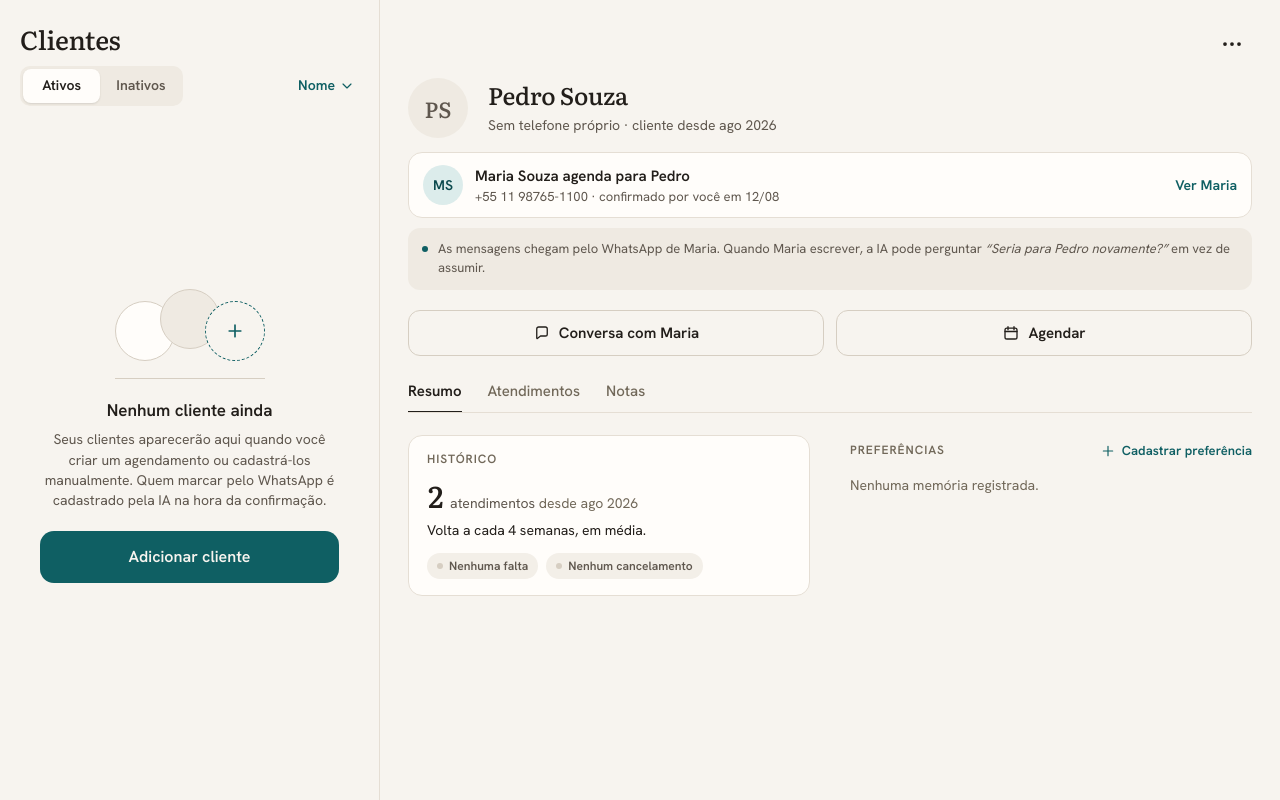
Scenario: Trocar o dono da conversa (escolha 2) › remover pelo painel volta ao pedido pelo próprio cliente
This screenshot has width=1280, height=800.
Expected: the heading "Pedro Souza" is shown, [488,77,628,112]
Expected: the link "Conversa com Maria" is shown, [408,310,824,356]
Click the button named "Mais ações do cliente" at [1232, 44], box [1212,24,1252,64]
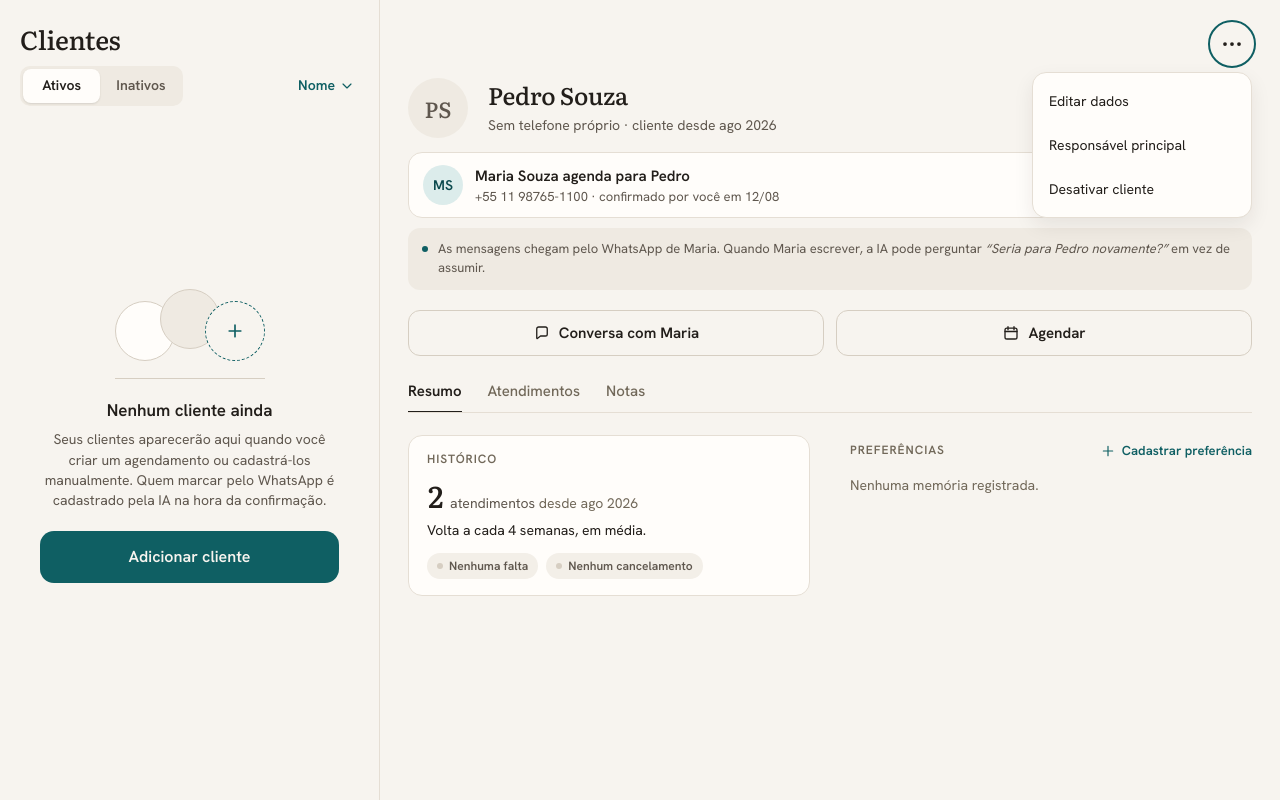
Click the menu item "Responsável principal" at [1142, 145], box [1039,123,1245,167]
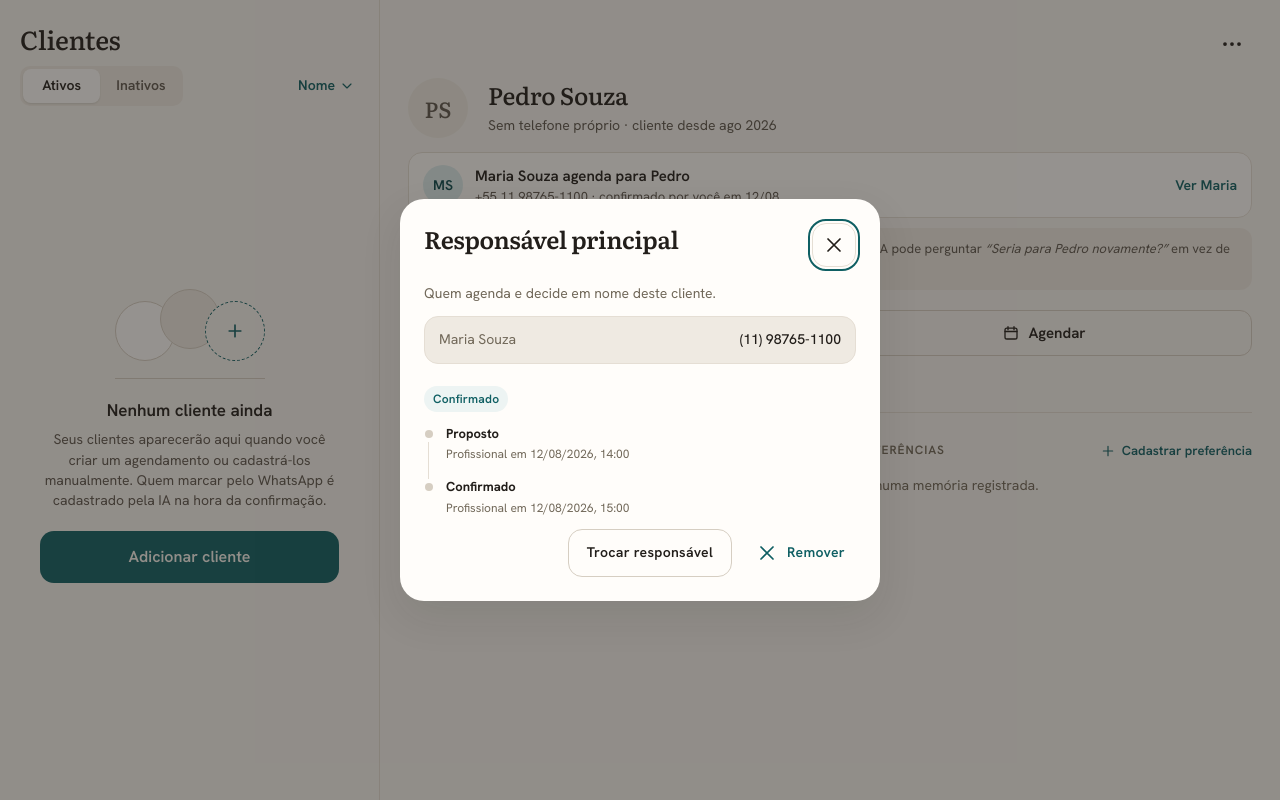
Click the button "Remover" at [800, 553], box [744,529,856,577]
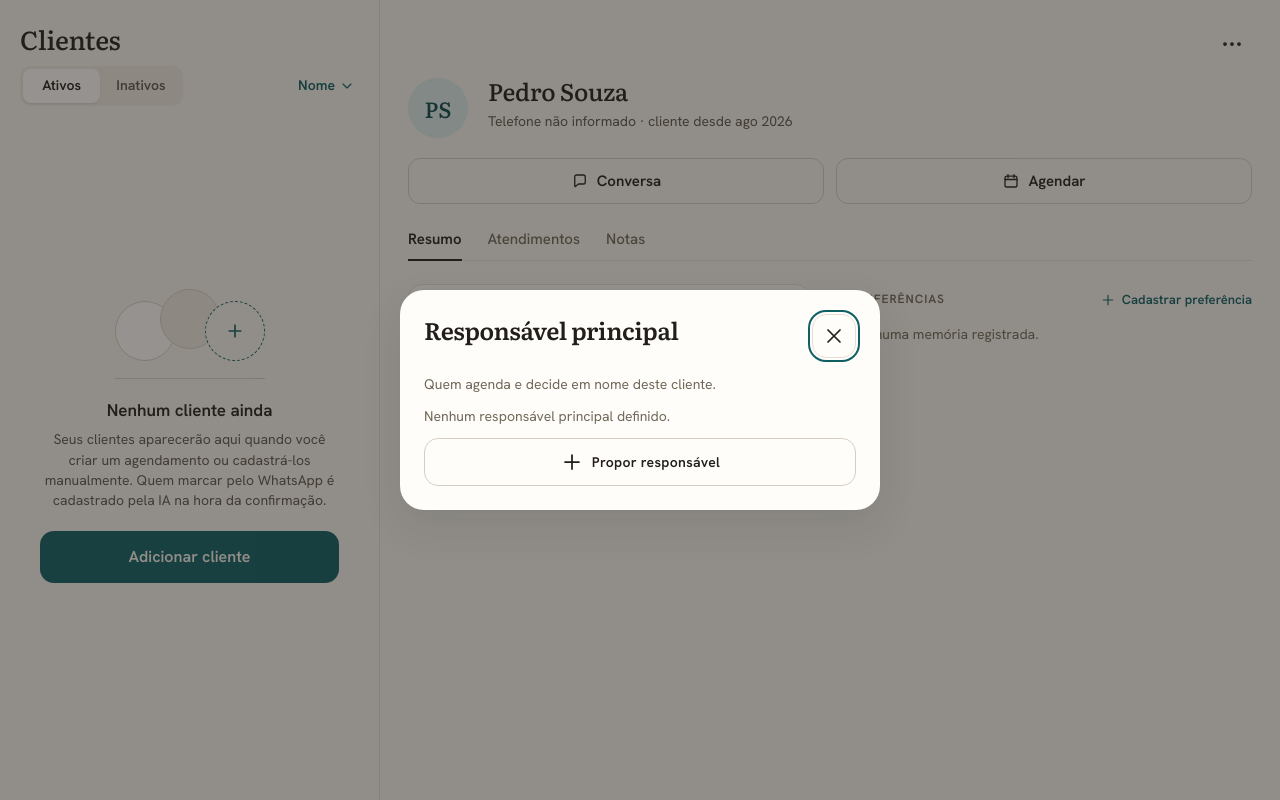
Result: the link "Conversa com Maria" is gone
